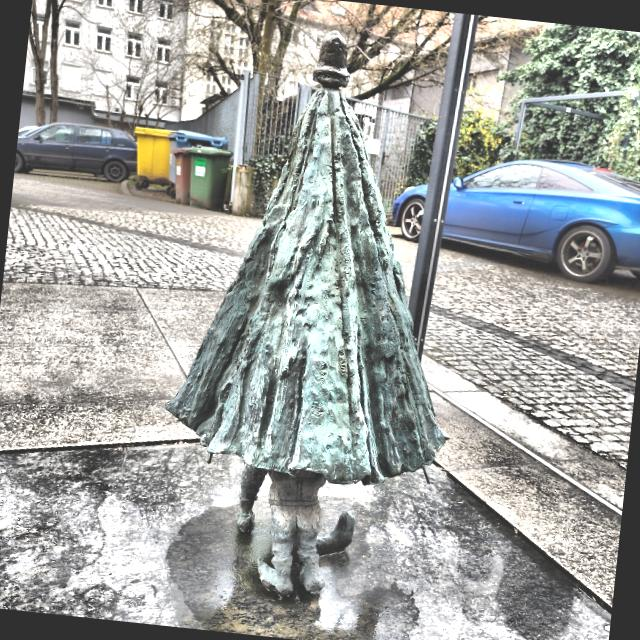Parasolniki: (166, 30, 446, 596)
